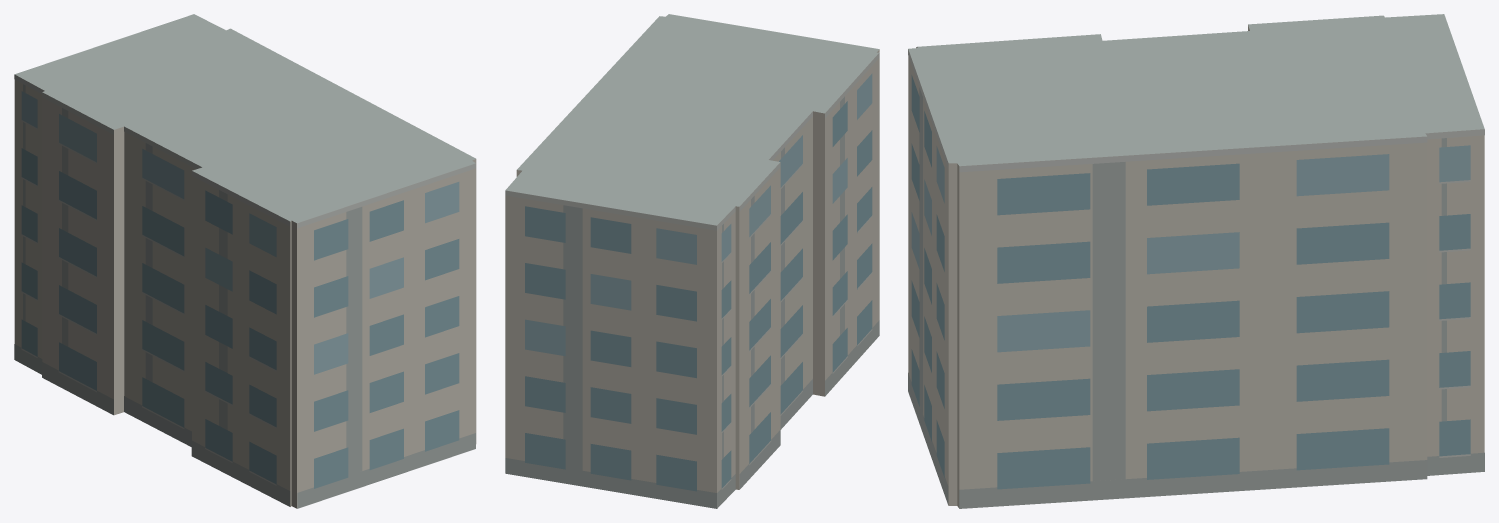
Rendered from survey-upis-32638355.glb.
The picture shows the model from 3 angles, left to right: view 1: azimuth 30°, elevation 25°; view 2: azimuth 150°, elevation 25°; view 3: azimuth 270°, elevation 25°; orthographic projection. The views are drawn at different scales.
Visible parts, largest first — view 1: survey-upis-32638355.tmp; view 2: survey-upis-32638355.tmp; view 3: survey-upis-32638355.tmp.
Boxes of the visible parts, x1,y1,x2,y2 form: survey-upis-32638355.tmp: [14, 14, 476, 508]; survey-upis-32638355.tmp: [505, 14, 879, 508]; survey-upis-32638355.tmp: [908, 14, 1484, 508].
Bounding box in the file's own units: 12.97 × 13.6 × 20.75.
